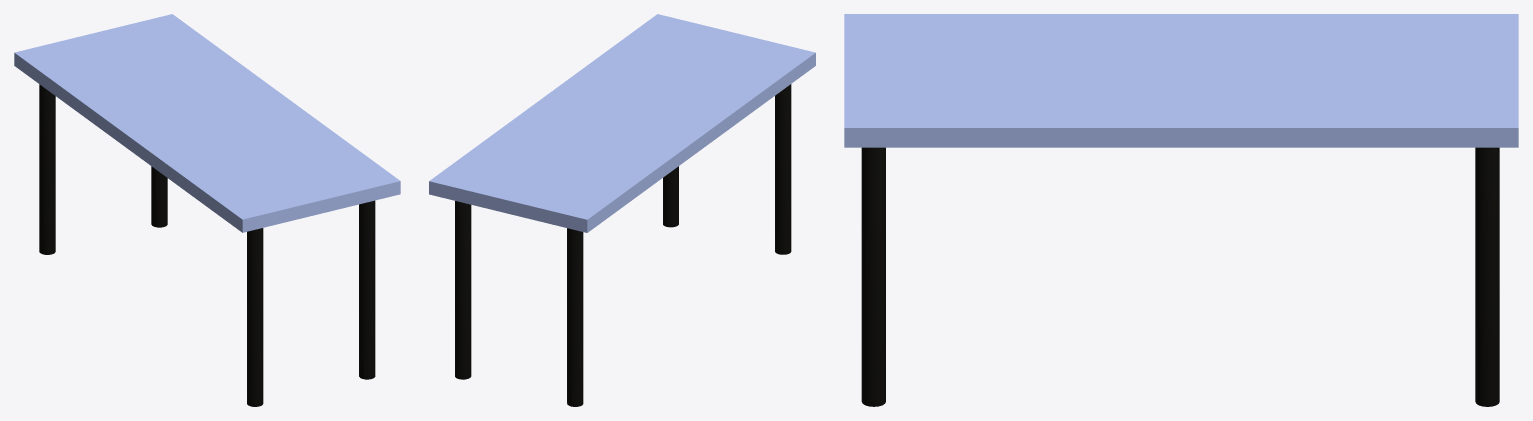
File: table.fbx
3 views of the same model, side by side, from view 1: azimuth 30°, elevation 25°; view 2: azimuth 150°, elevation 25°; view 3: azimuth 270°, elevation 25° (orthographic). The views are drawn at different scales.
Parts seen in each view (by area): view 1: Cube, Cylinder4; view 2: Cube, Cylinder4; view 3: Cube, Cylinder4.
Part boxes in pixels (left/top/right/bottom): Cube: left=14, top=14, right=400, bottom=232; Cylinder4: left=39, top=84, right=375, bottom=406; Cube: left=429, top=14, right=815, bottom=232; Cylinder4: left=455, top=84, right=791, bottom=406; Cube: left=844, top=14, right=1518, bottom=147; Cylinder4: left=861, top=147, right=1499, bottom=406.
Bounding box in the file's own units: 200 × 238 × 500.
